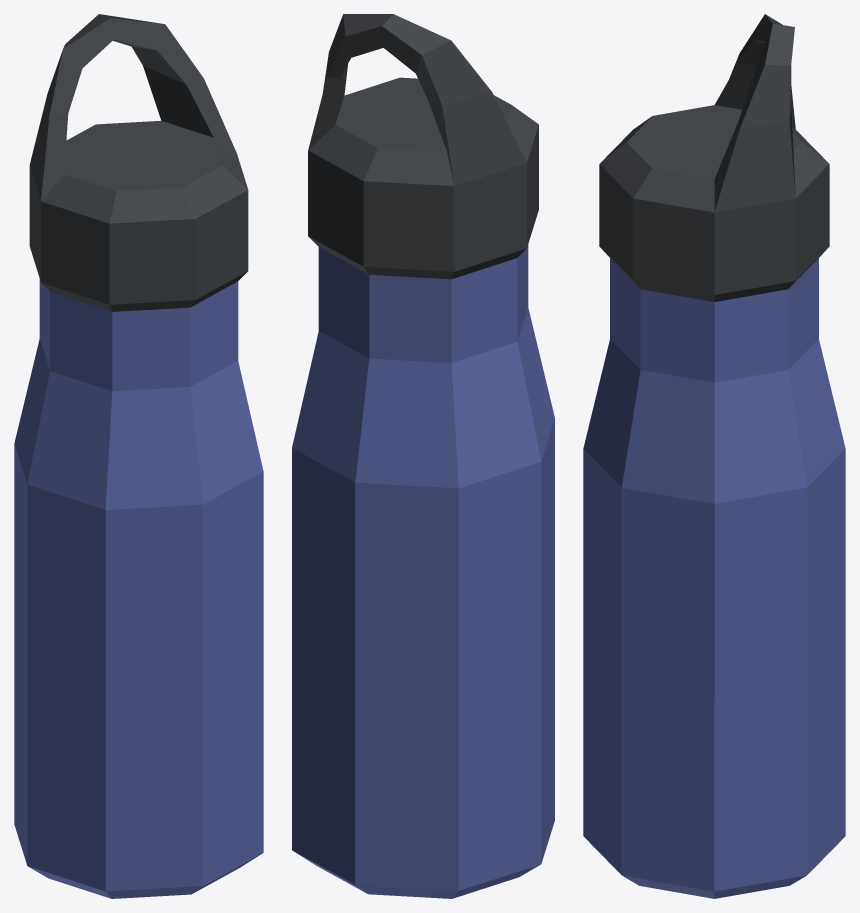
File: SM_Prop_Bottle_01.glb
3 renders of one model, left to right at view 1: azimuth 30°, elevation 25°; view 2: azimuth 150°, elevation 25°; view 3: azimuth 270°, elevation 25°, orthographic. The views are drawn at different scales.
Parts seen in each view (by area): view 1: SM_Prop_Bottle_01; view 2: SM_Prop_Bottle_01; view 3: SM_Prop_Bottle_01.
Part boxes in pixels (x1,y1,x2,y2): SM_Prop_Bottle_01: [14, 14, 263, 898]; SM_Prop_Bottle_01: [292, 14, 554, 898]; SM_Prop_Bottle_01: [583, 14, 845, 898].
Size of the model in its own units: 0.1536 by 0.5366 by 0.1536.
Materials: 1 (1 with a texture image).
